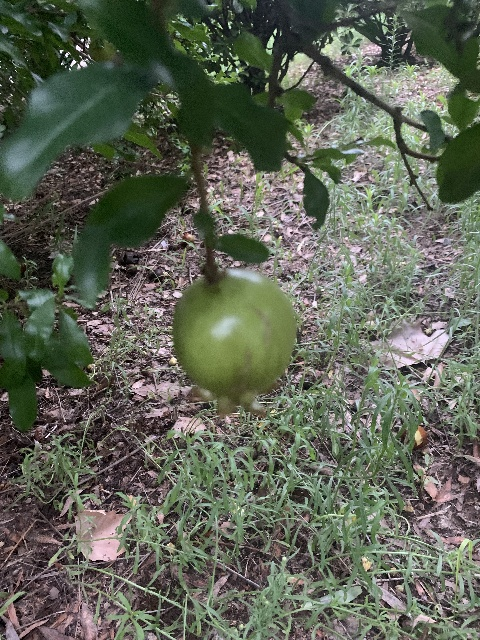mid-growth: (175, 271, 296, 420)
